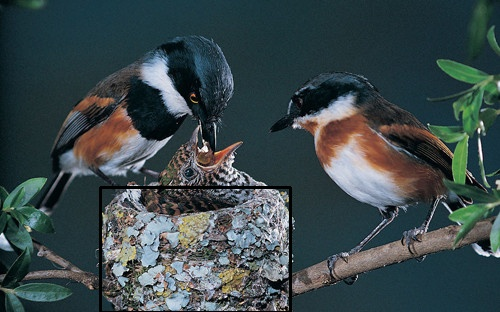bird-nest: (100, 187, 290, 312)
